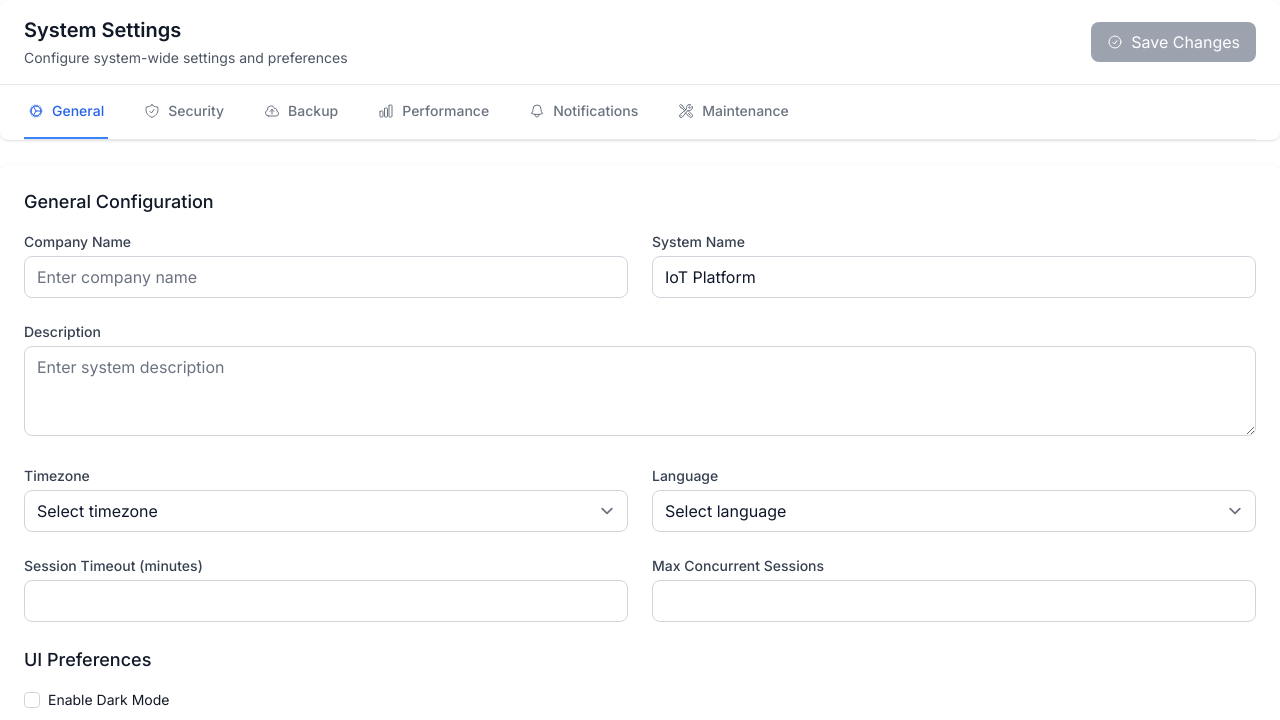
it: SystemSettings › can switch to backup tab
Click the button "Backup".
click(301, 112)  # box [260,85,342,139]
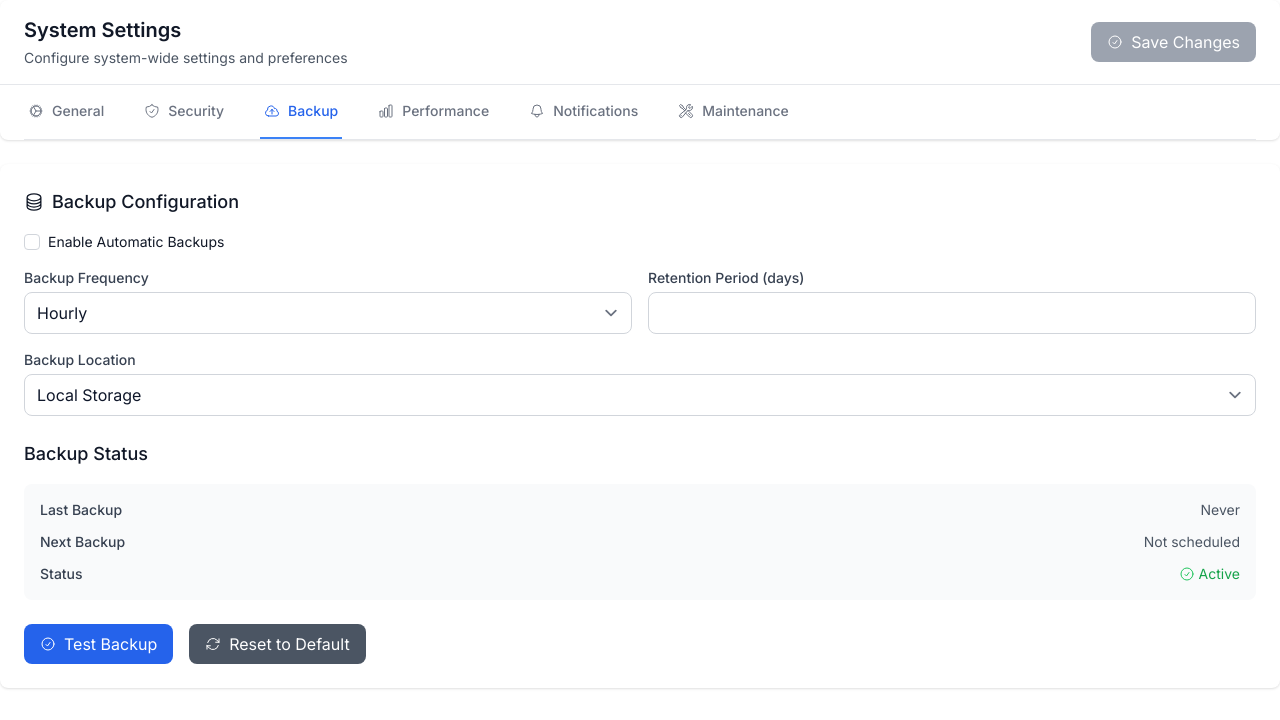
Expected: the heading "Backup Configuration" is shown, [24,191,239,212]
Expected: the heading "Backup Status" is shown, [24,443,148,464]
